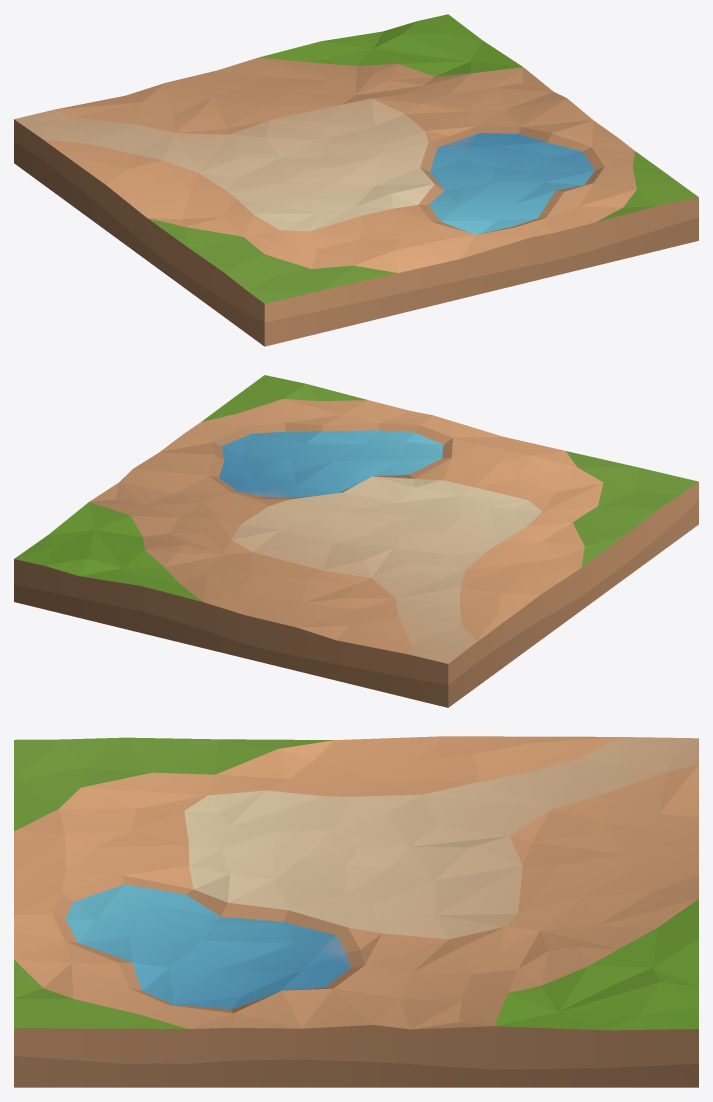
File: land houses fall woods.fbx
The picture shows the model from 3 angles, top to bottom: view 1: azimuth 30°, elevation 25°; view 2: azimuth 150°, elevation 25°; view 3: azimuth 270°, elevation 25°; orthographic projection. The views are drawn at different scales.
Parts seen in each view (by area): view 1: land houses fall woods; view 2: land houses fall woods; view 3: land houses fall woods.
Boxes of the visible parts, <box> form: land houses fall woods: <box>14,14,698,346</box>; land houses fall woods: <box>14,375,698,707</box>; land houses fall woods: <box>14,736,698,1087</box>.
Size of the model in its own units: 4500 by 475 by 4500.
